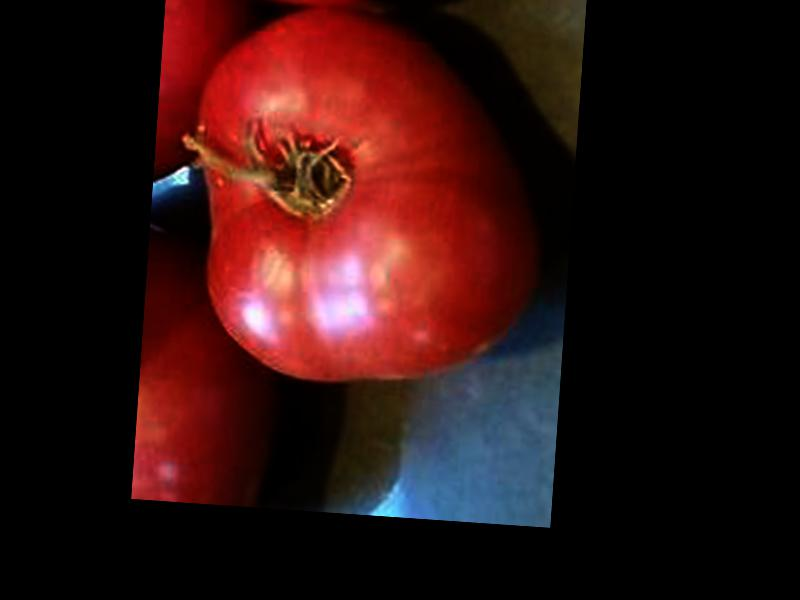Tomato: (180, 2, 554, 396)
